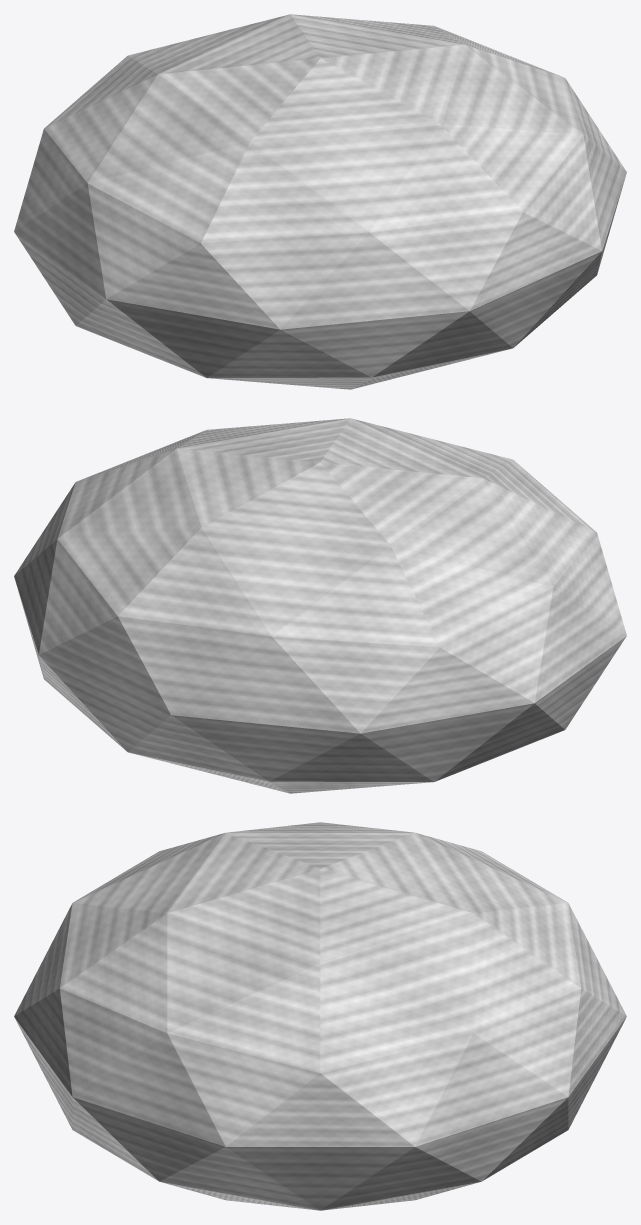
Rendered from cracked_resource_boulder_variant_a.glb.
3 renders of one model, top to bottom at view 1: azimuth 30°, elevation 25°; view 2: azimuth 150°, elevation 25°; view 3: azimuth 270°, elevation 25°, orthographic. The views are drawn at different scales.
Visible parts, largest first — view 1: Cracked boulder core.001; view 2: Cracked boulder core.001; view 3: Cracked boulder core.001.
Boxes of the visible parts, x1,y1,x2,y2 form: Cracked boulder core.001: (14,14,626,389); Cracked boulder core.001: (14,418,626,793); Cracked boulder core.001: (14,822,626,1210).
Size of what is drawn, in the model's own units: 4.93 by 2.6 by 4.9.
2 materials, 2 textured.
